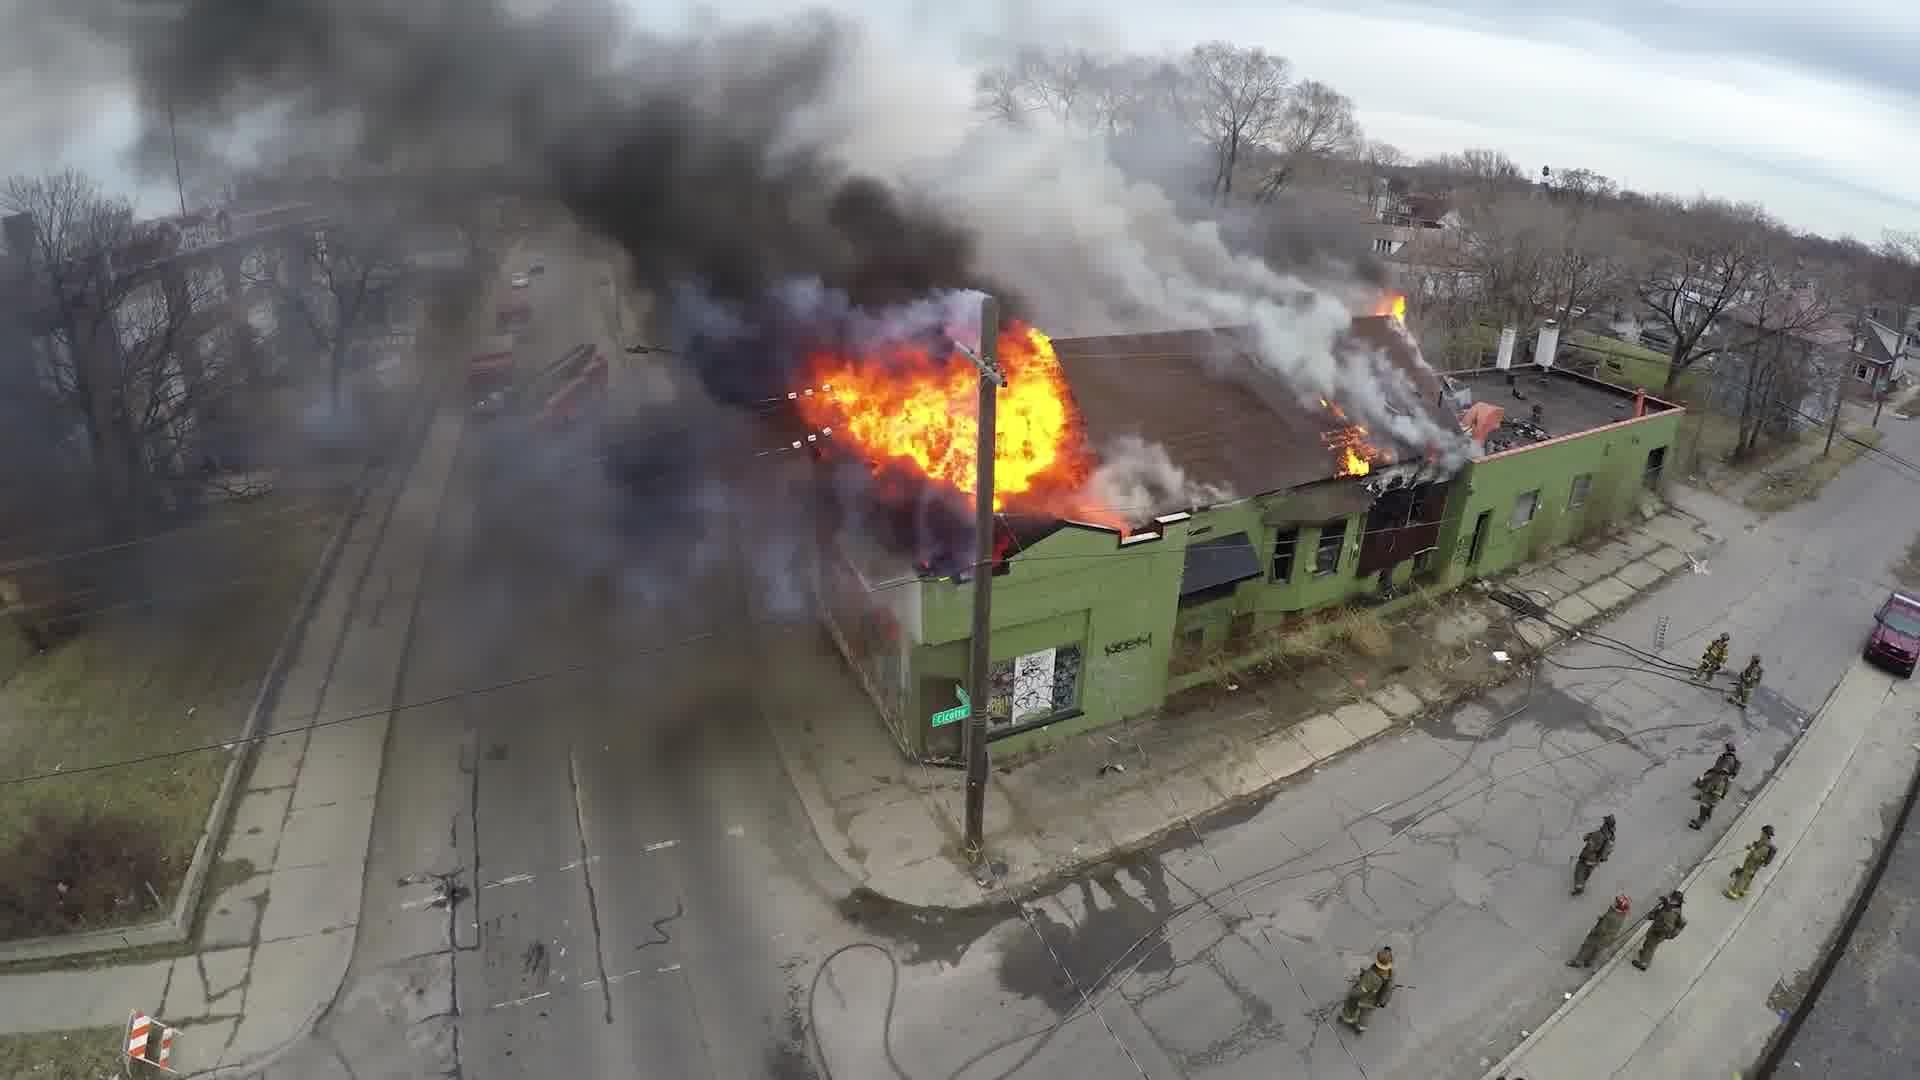fire: (620, 8, 1127, 348), (843, 355, 1080, 488)
